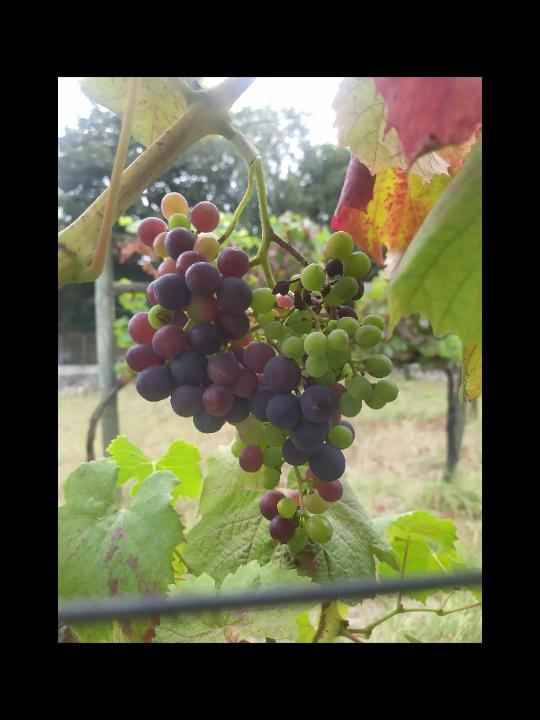grape: (122, 189, 400, 556)
